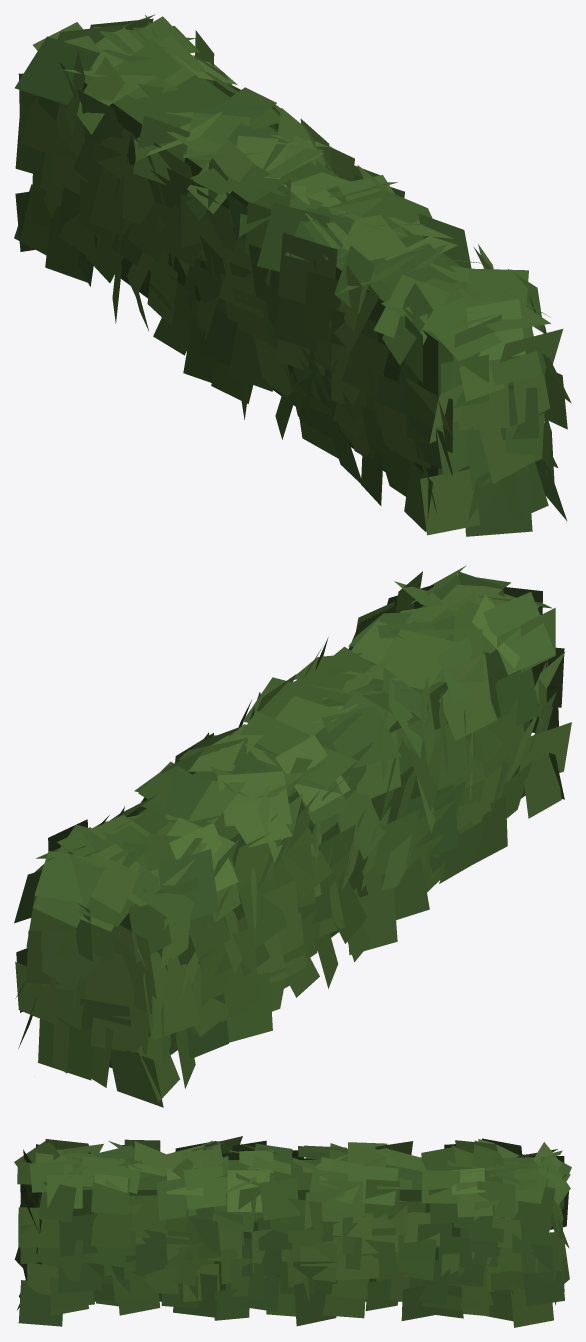
File: hedge.privet.green.glb
3 views of the same model, one above another, from view 1: azimuth 30°, elevation 25°; view 2: azimuth 150°, elevation 25°; view 3: azimuth 270°, elevation 25° (orthographic). The views are drawn at different scales.
Visible parts, largest first — view 1: hedge_privet_green; view 2: hedge_privet_green; view 3: hedge_privet_green.
Boxes of the visible parts, x1=… form: hedge_privet_green: x1=14, y1=14, x2=571, y2=536; hedge_privet_green: x1=14, y1=565, x2=571, y2=1107; hedge_privet_green: x1=14, y1=1136, x2=571, y2=1327.
Size of what is drawn, in the model's own units: 1.2 by 1.52 by 5.17.
